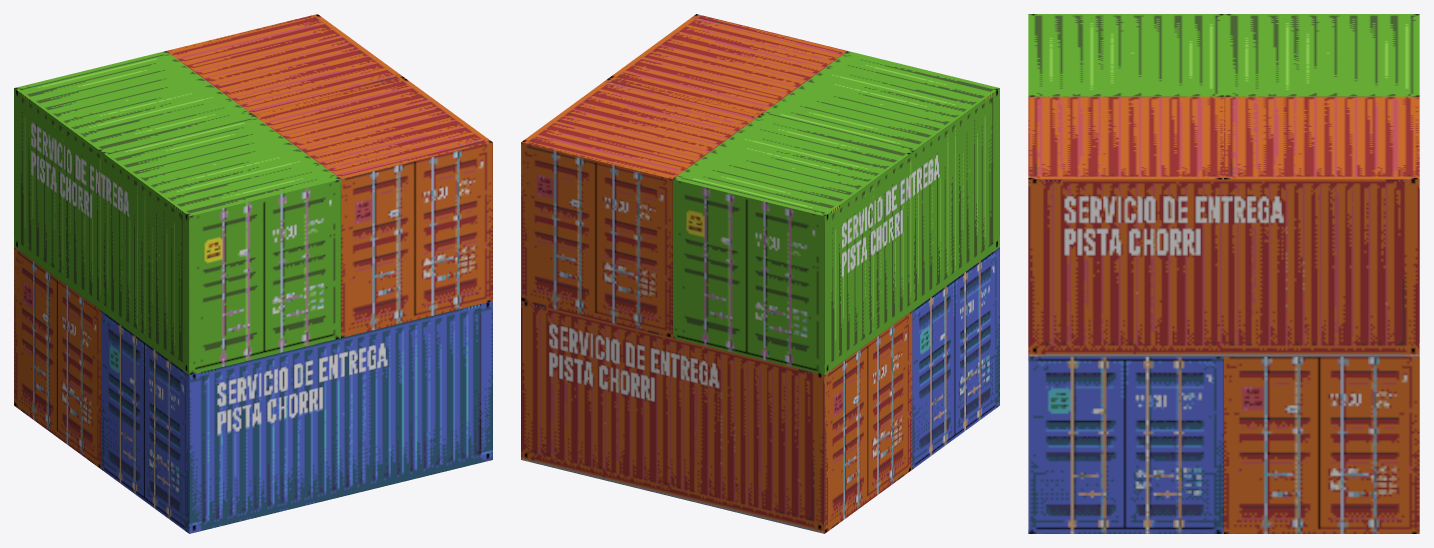
File: Container-4x4x4.fbx
3 renders of one model, left to right at view 1: azimuth 30°, elevation 25°; view 2: azimuth 150°, elevation 25°; view 3: azimuth 270°, elevation 25°, orthographic. The views are drawn at different scales.
Parts seen in each view (by area): view 1: Container-4x4x4; view 2: Container-4x4x4; view 3: Container-4x4x4.
Part boxes in pixels (bbox=[...]): Container-4x4x4: bbox=[14, 14, 492, 533]; Container-4x4x4: bbox=[521, 14, 999, 533]; Container-4x4x4: bbox=[1028, 14, 1419, 533].
Bounding box in the file's own units: 4 × 4 × 4.
